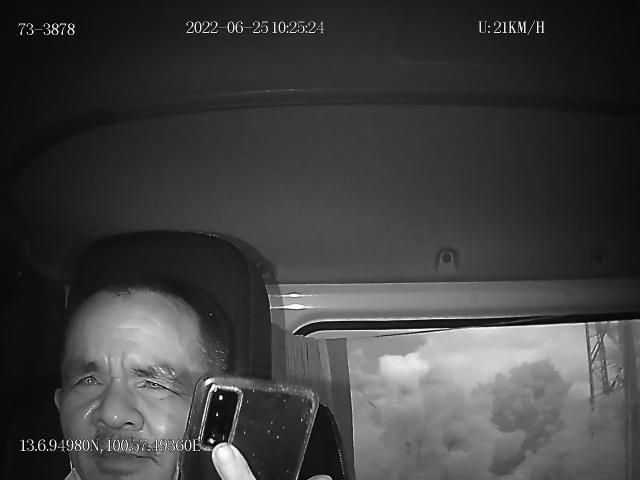PhoneUse: (183, 376, 319, 480)
SafeDriving: (129, 365, 174, 398), (67, 362, 108, 397)
